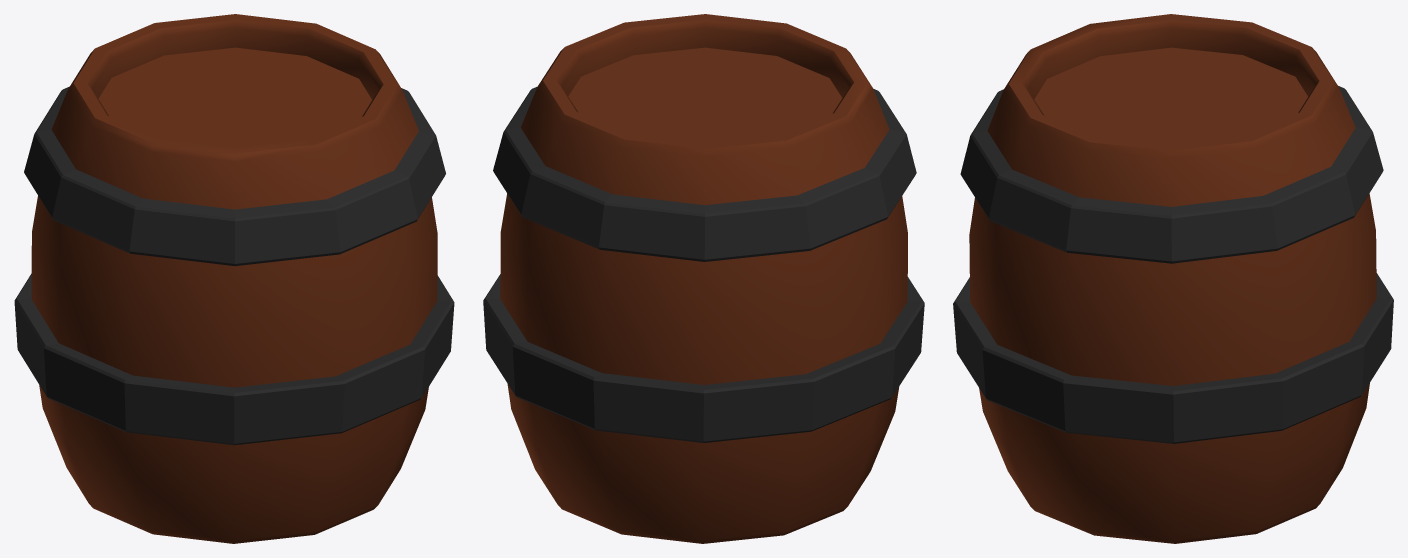
The model's file is barrels.glb.
3 views of the same model, side by side, from view 1: azimuth 30°, elevation 25°; view 2: azimuth 150°, elevation 25°; view 3: azimuth 270°, elevation 25° (orthographic).
Parts seen in each view (by area): view 1: Barrel; view 2: Barrel; view 3: Barrel.
Part boxes in pixels (<box>): Barrel: <box>14,14,454,543</box>; Barrel: <box>483,14,924,543</box>; Barrel: <box>953,14,1393,543</box>.
Bounding box in the file's own units: 1.4 × 1.39 × 1.4.
